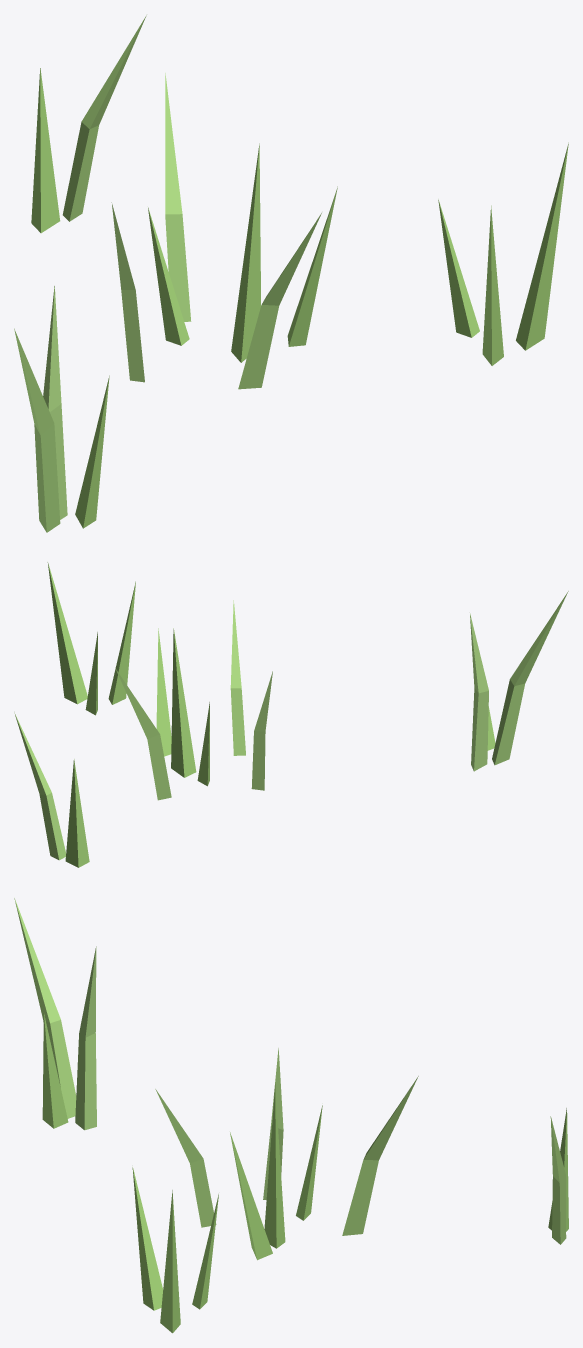
Rendered from Grass3D_a_08.fbx.
The picture shows the model from 3 angles, top to bottom: view 1: azimuth 30°, elevation 25°; view 2: azimuth 150°, elevation 25°; view 3: azimuth 270°, elevation 25°; orthographic projection. The views are drawn at different scales.
Parts seen in each view (by area): view 1: Grass3D_a_08; view 2: Grass3D_a_08; view 3: Grass3D_a_08.
Boxes of the visible parts, box(x1,y1,x2,y2) form: Grass3D_a_08: box(14, 15, 568, 532); Grass3D_a_08: box(14, 562, 568, 867); Grass3D_a_08: box(14, 898, 568, 1333).
Size of the model in its own units: 166 by 59.36 by 152.
